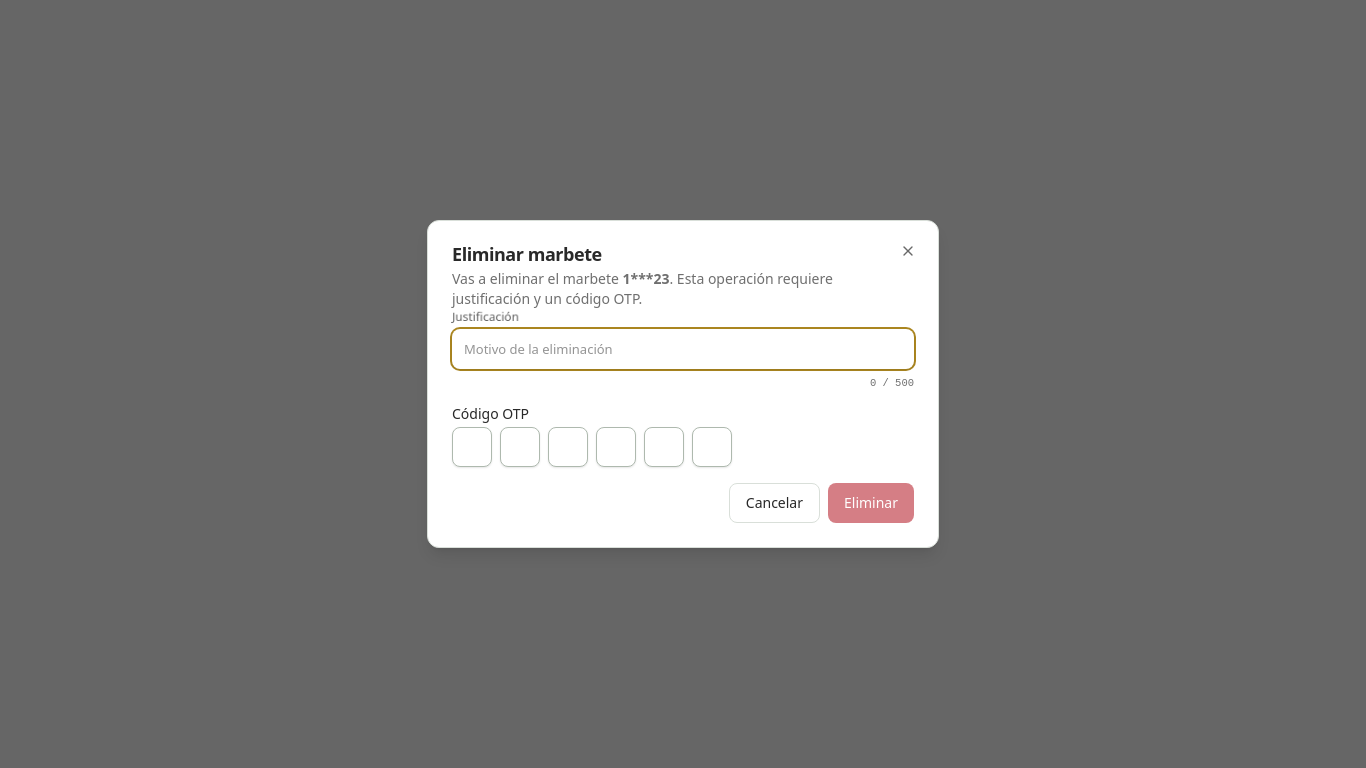
Test: DeleteDialog › disables submit until reason is valid and OTP has 6 digits
Check: the button with test id "delete-submit" is disabled, box [828,483,914,523]
Step 1. Type "lost" into the field with test id "delete-reason" → [683, 349], box [452,329,914,369]
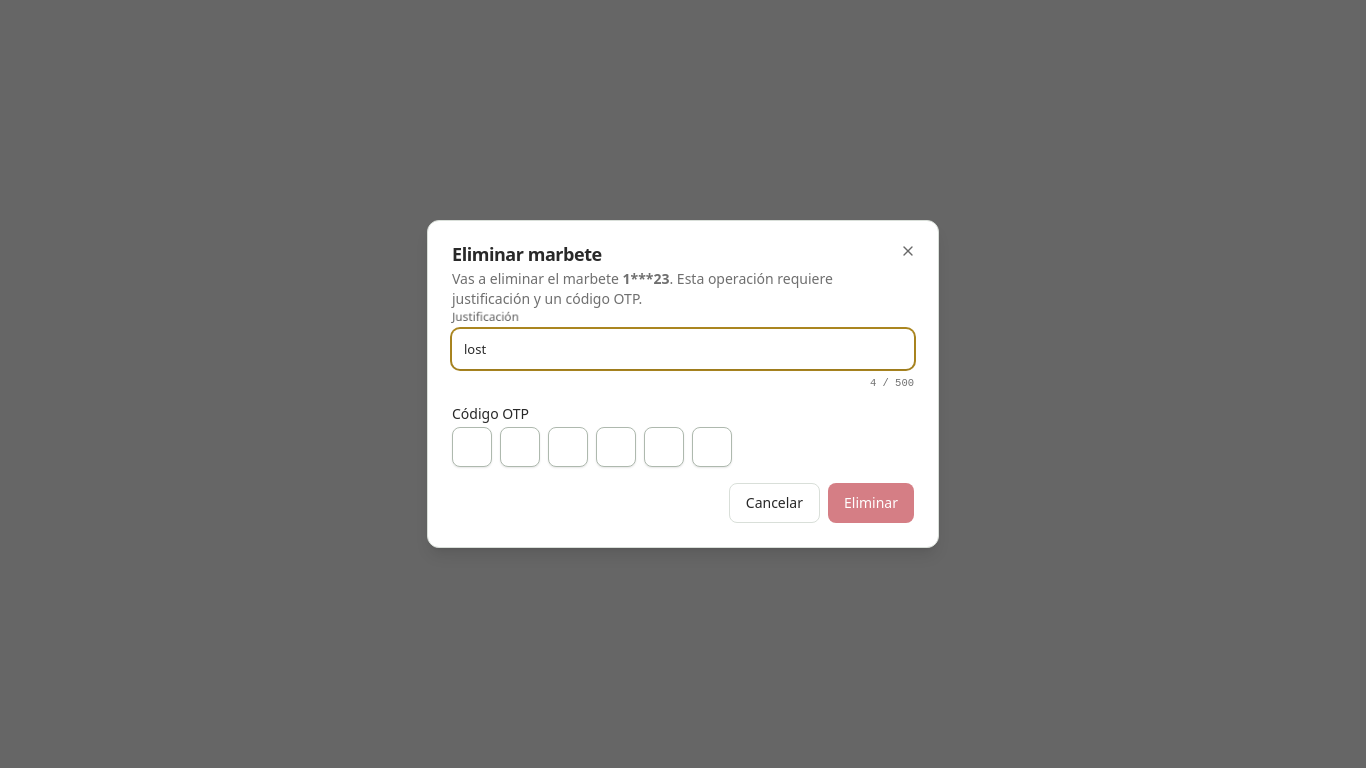
Check: the button with test id "delete-submit" is disabled, box [828,483,914,523]
Step 2. Type "1" into the field named "Digit" → [472, 447], box [452,427,492,467]
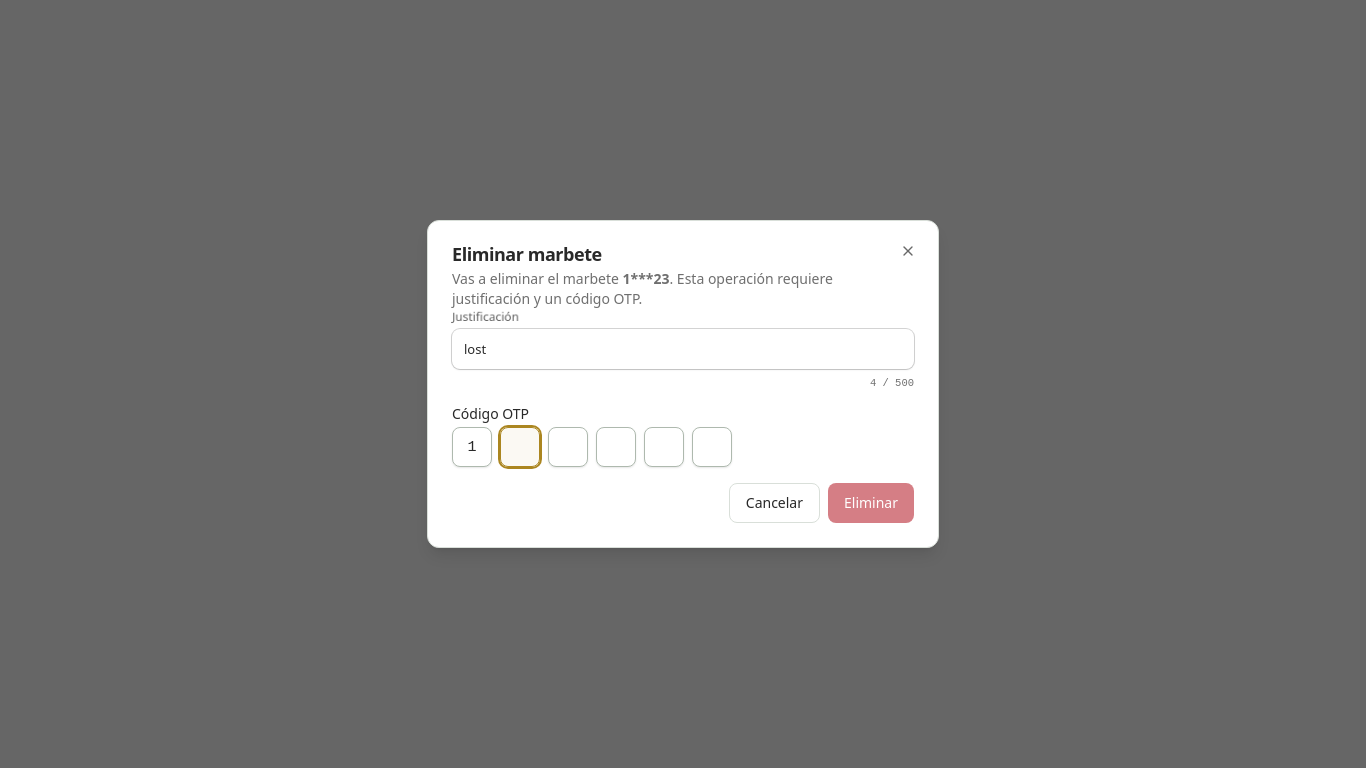
Step 3. Type "1" into the field named "Digit" → [520, 447], box [500,427,540,467]
Step 4. Type "1" into the field named "Digit" → [568, 447], box [548,427,588,467]
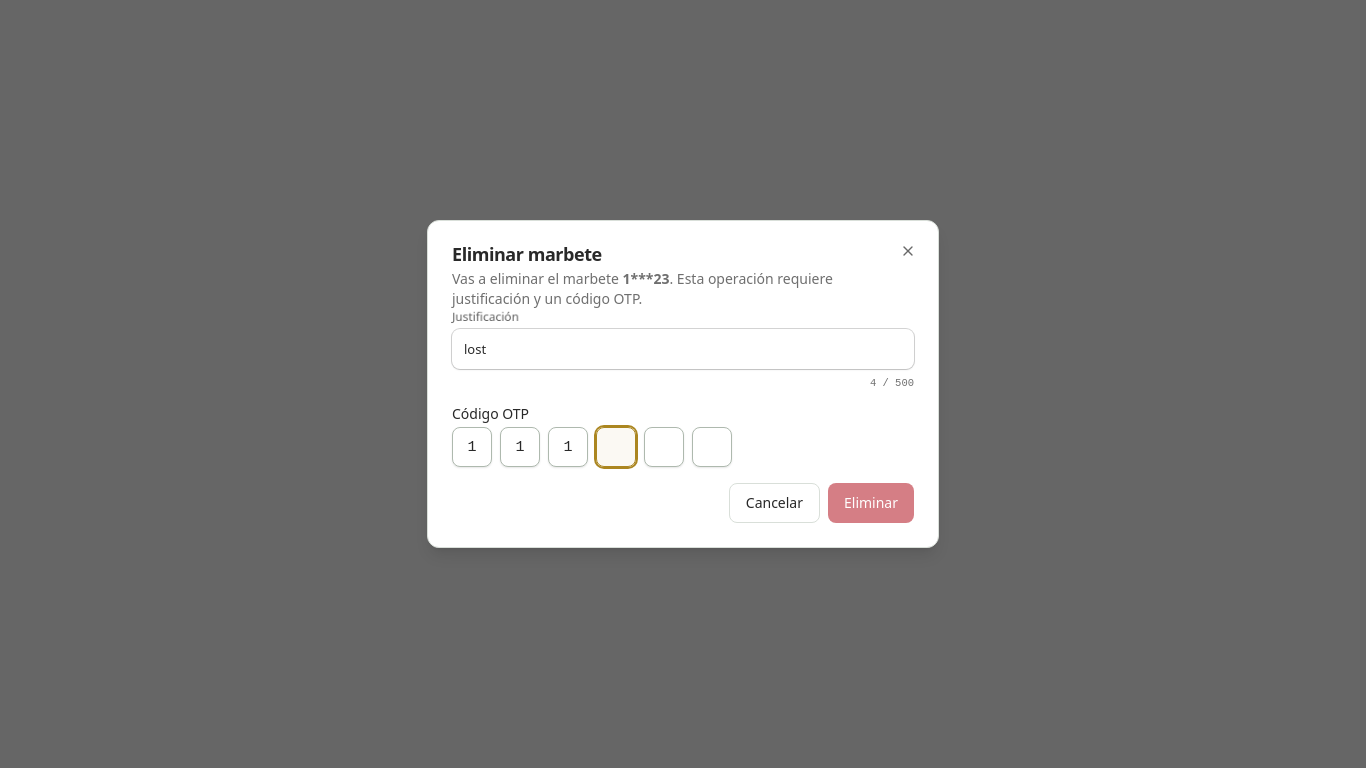
Step 5. Type "1" into the field named "Digit" → [616, 447], box [596,427,636,467]
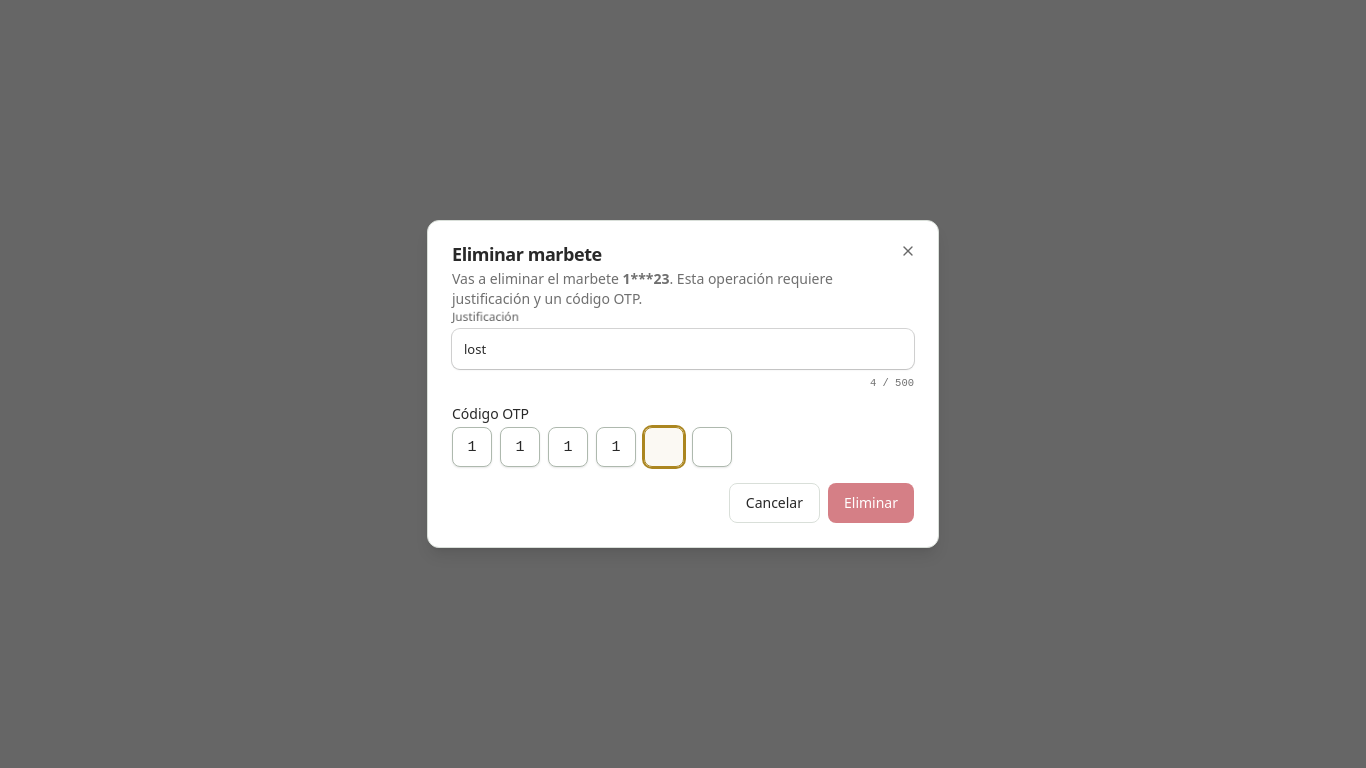
Step 6. Type "1" into the field named "Digit" → [664, 447], box [644,427,684,467]
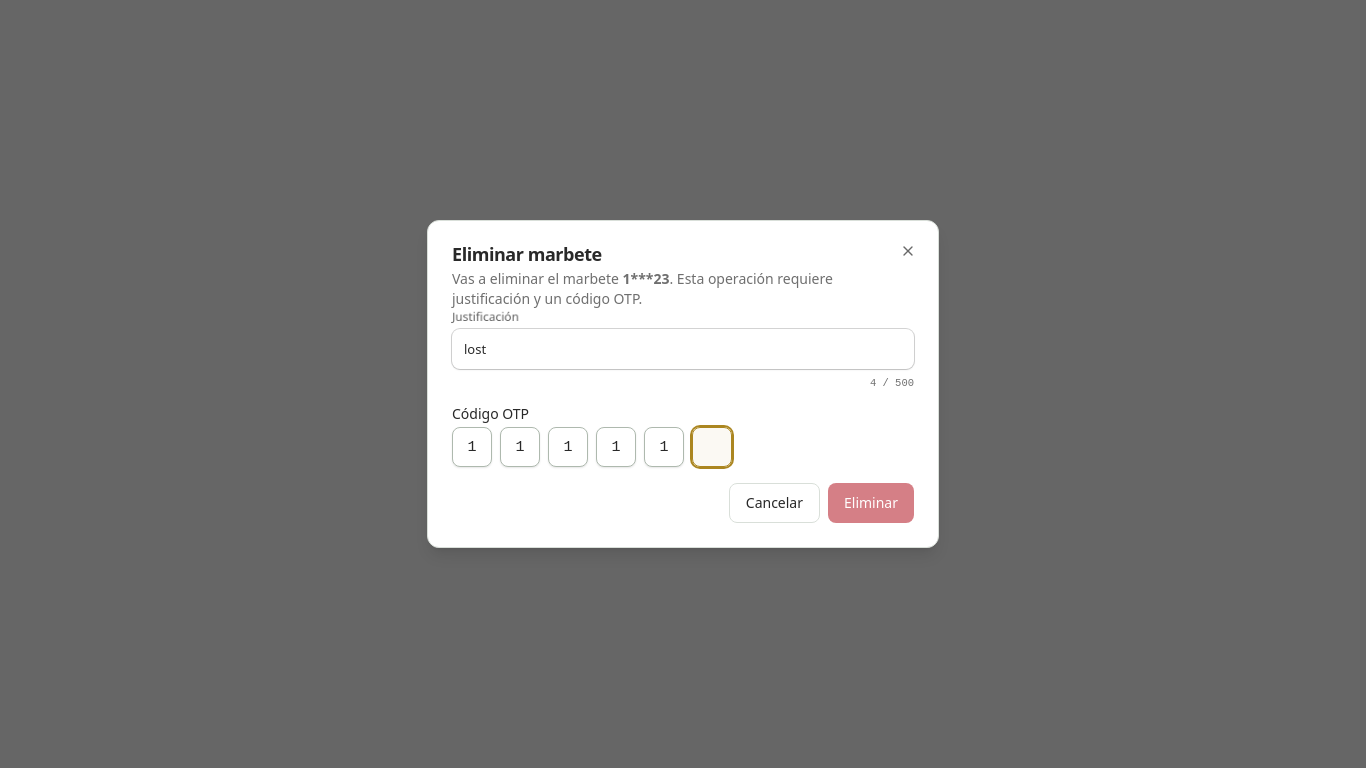
Step 7. Type "1" into the field named "Digit" → [712, 447], box [692,427,732,467]
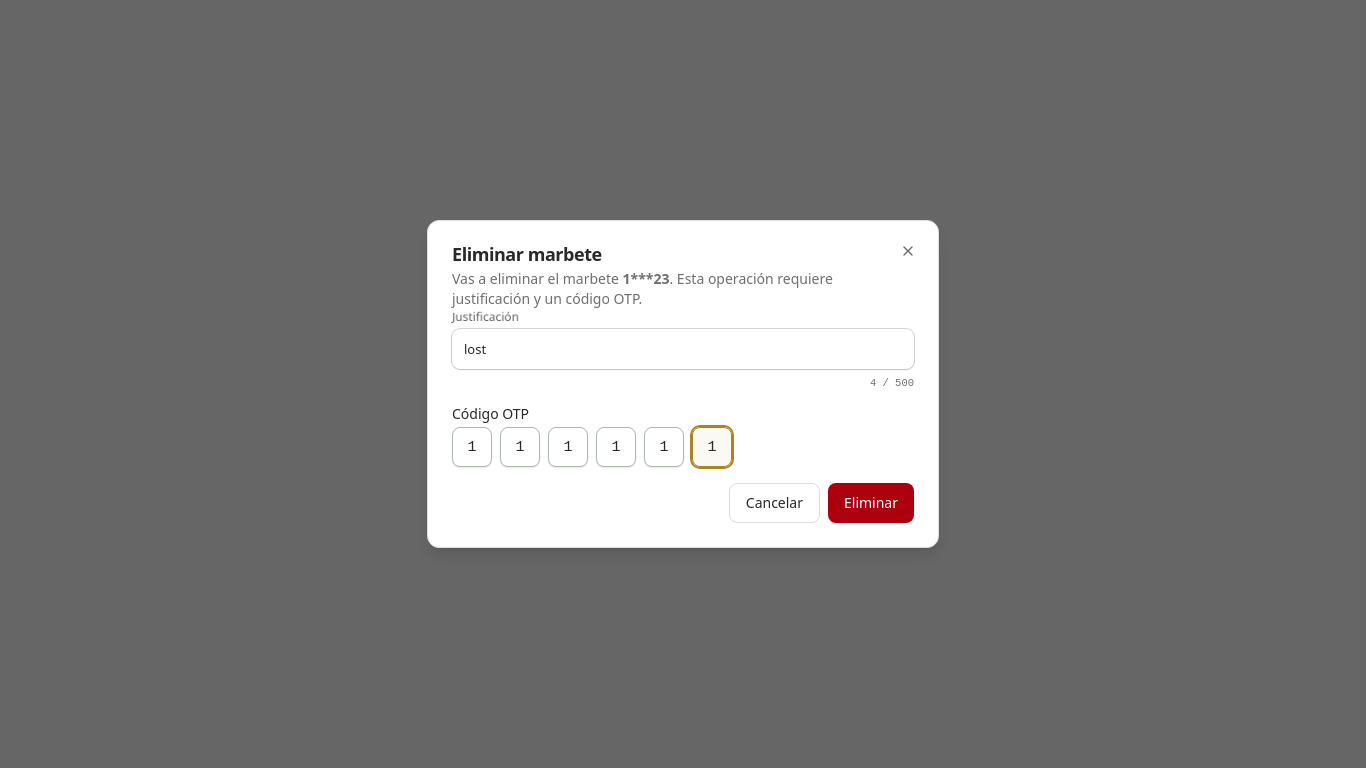
Check: the button with test id "delete-submit" is enabled, box [828,483,914,523]
